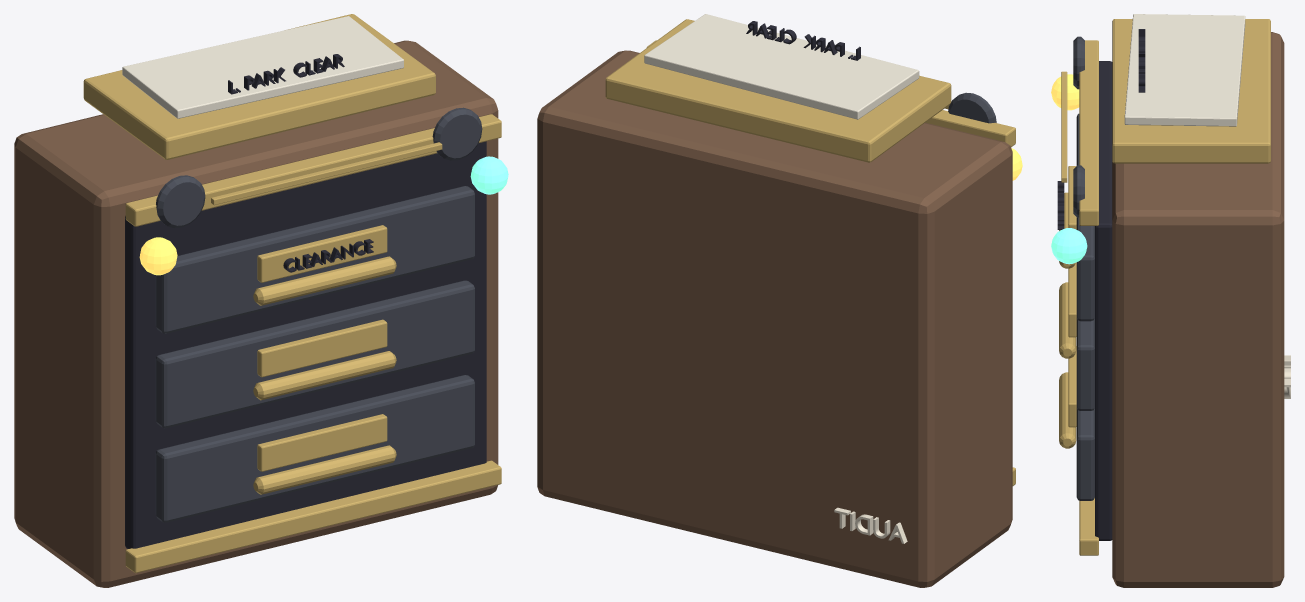
The model's file is records-cabinet.glb.
3 renders of one model, left to right at view 1: azimuth 30°, elevation 25°; view 2: azimuth 150°, elevation 25°; view 3: azimuth 270°, elevation 25°, orthographic. The views are drawn at different scales.
Visible parts, largest first — view 1: records cabinet oak case, records cabinet black enamel back, records drawer dark face 0, records drawer dark face 1, records drawer dark face 2, records open audit tray, records audit slip paper, records cabinet brass kick rail, records cabinet brass top rail, records drawer brass label 1, records drawer brass label 0, records drawer brass label 2 (+10 smaller); view 2: records cabinet oak case, records open audit tray, records audit slip paper, records cabinet brass top rail, records audit slip clearance, records cabinet side letters, records voice spool left; view 3: records cabinet oak case, records audit slip paper, records open audit tray, records cabinet black enamel back, records cabinet brass top rail, records drawer dark face 2, records drawer dark face 0, records drawer dark face 1, records teal cleared lamp, records cabinet brass kick rail, records drawer pull 1, records drawer pull 0 (+9 smaller).
Boxes of the visible parts, box(x1,y1,x2,y2) form: records cabinet oak case: box(14, 40, 498, 587); records cabinet black enamel back: box(125, 141, 486, 548); records drawer dark face 0: box(155, 375, 474, 522); records drawer dark face 1: box(155, 280, 474, 428); records drawer dark face 2: box(155, 186, 474, 333); records open audit tray: box(83, 14, 435, 159); records audit slip paper: box(122, 16, 403, 118); records cabinet brass kick rail: box(125, 460, 501, 573); records cabinet brass top rail: box(125, 114, 501, 226); records drawer brass label 1: box(257, 319, 387, 377); records drawer brass label 0: box(257, 414, 387, 471); records drawer brass label 2: box(257, 225, 387, 282); records cabinet oak case: box(537, 50, 1012, 587); records open audit tray: box(605, 19, 951, 162); records audit slip paper: box(644, 14, 919, 119); records cabinet brass top rail: box(646, 40, 1015, 147); records audit slip clearance: box(746, 21, 860, 60); records cabinet side letters: box(834, 507, 907, 543); records voice spool left: box(948, 92, 996, 123); records cabinet oak case: box(1112, 32, 1284, 587); records audit slip paper: box(1124, 14, 1245, 126); records open audit tray: box(1112, 19, 1270, 163); records cabinet black enamel back: box(1095, 61, 1112, 540); records cabinet brass top rail: box(1079, 40, 1098, 225); records drawer dark face 2: box(1076, 113, 1094, 321); records drawer dark face 0: box(1076, 408, 1094, 500); records drawer dark face 1: box(1076, 318, 1094, 410); records teal cleared lamp: box(1051, 228, 1087, 264); records cabinet brass kick rail: box(1079, 498, 1098, 555); records drawer pull 1: box(1059, 282, 1076, 358); records drawer pull 0: box(1059, 372, 1076, 448).
Size of the model in its own units: 1.34 by 1.48 by 0.725.
